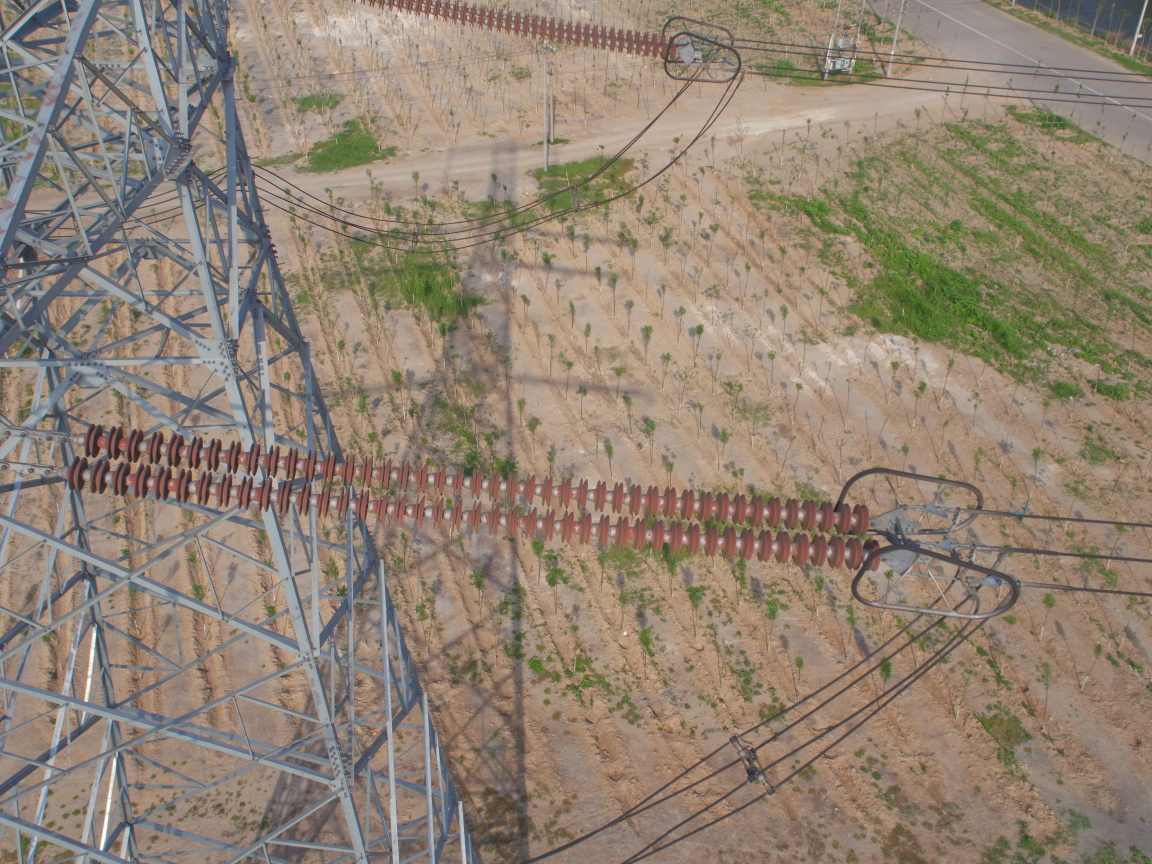insulator: (48, 422, 894, 573)
